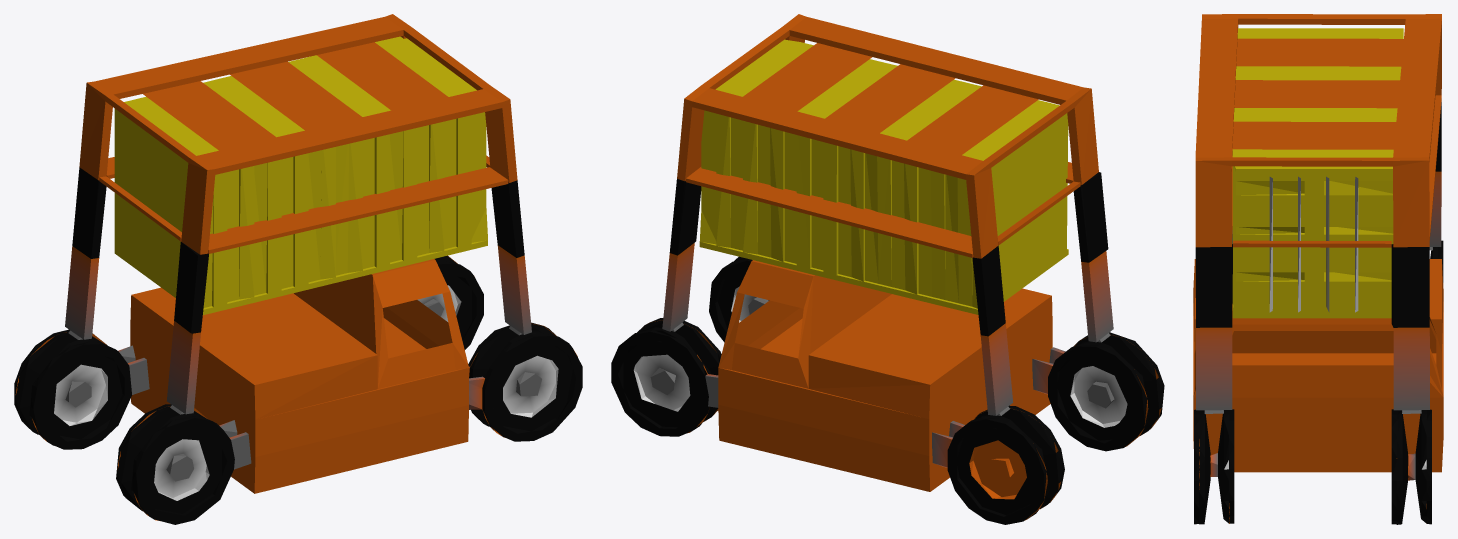
File: straddle-carrier.lod0.glb
3 views of the same model, side by side, from view 1: azimuth 30°, elevation 25°; view 2: azimuth 150°, elevation 25°; view 3: azimuth 270°, elevation 25° (orthographic).
Parts seen in each view (by area): view 1: Cube_Material_0; view 2: Cube_Material_0; view 3: Cube_Material_0.
Boxes of the visible parts, box(x1,y1,x2,y2) form: Cube_Material_0: box(14, 14, 582, 524); Cube_Material_0: box(611, 14, 1164, 524); Cube_Material_0: box(1193, 14, 1443, 524).
Bounding box in the file's own units: 18.84 × 14 × 9.15.
